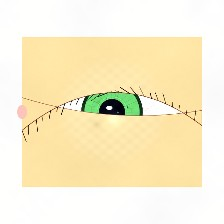pinguecula_lesion: (144, 104, 178, 131)
